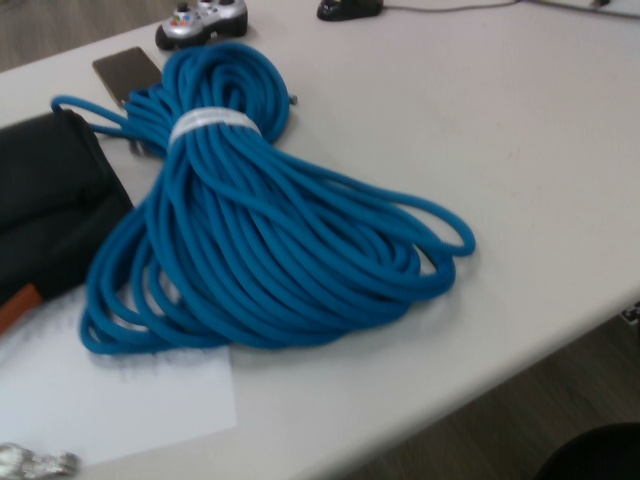rope: (46, 41, 488, 360)
